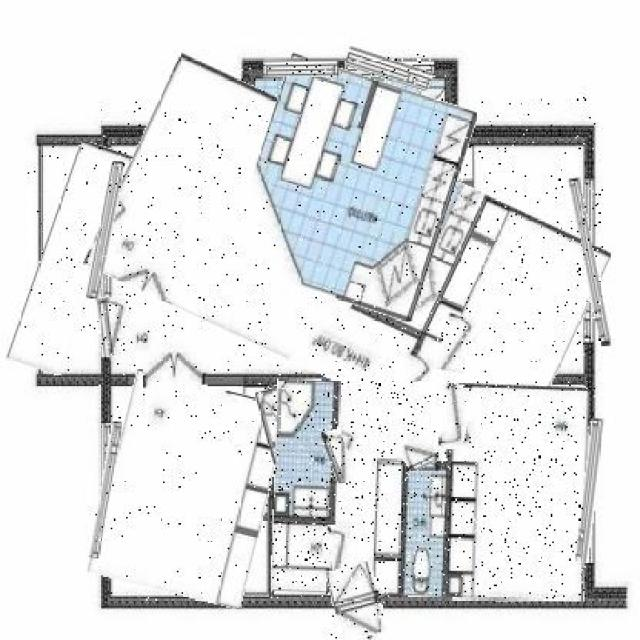door: (329, 563, 385, 640), (143, 349, 202, 391), (440, 314, 474, 374), (443, 386, 474, 449), (97, 297, 129, 355), (324, 429, 354, 485), (403, 437, 437, 471), (331, 526, 352, 574)
window: (577, 177, 603, 348), (94, 160, 118, 300), (580, 419, 600, 563), (346, 52, 432, 85), (96, 422, 116, 560), (264, 58, 338, 77)
zone: (97, 97, 597, 418), (272, 382, 588, 600), (240, 65, 463, 309), (100, 377, 278, 601), (23, 142, 117, 376), (264, 382, 338, 522)
